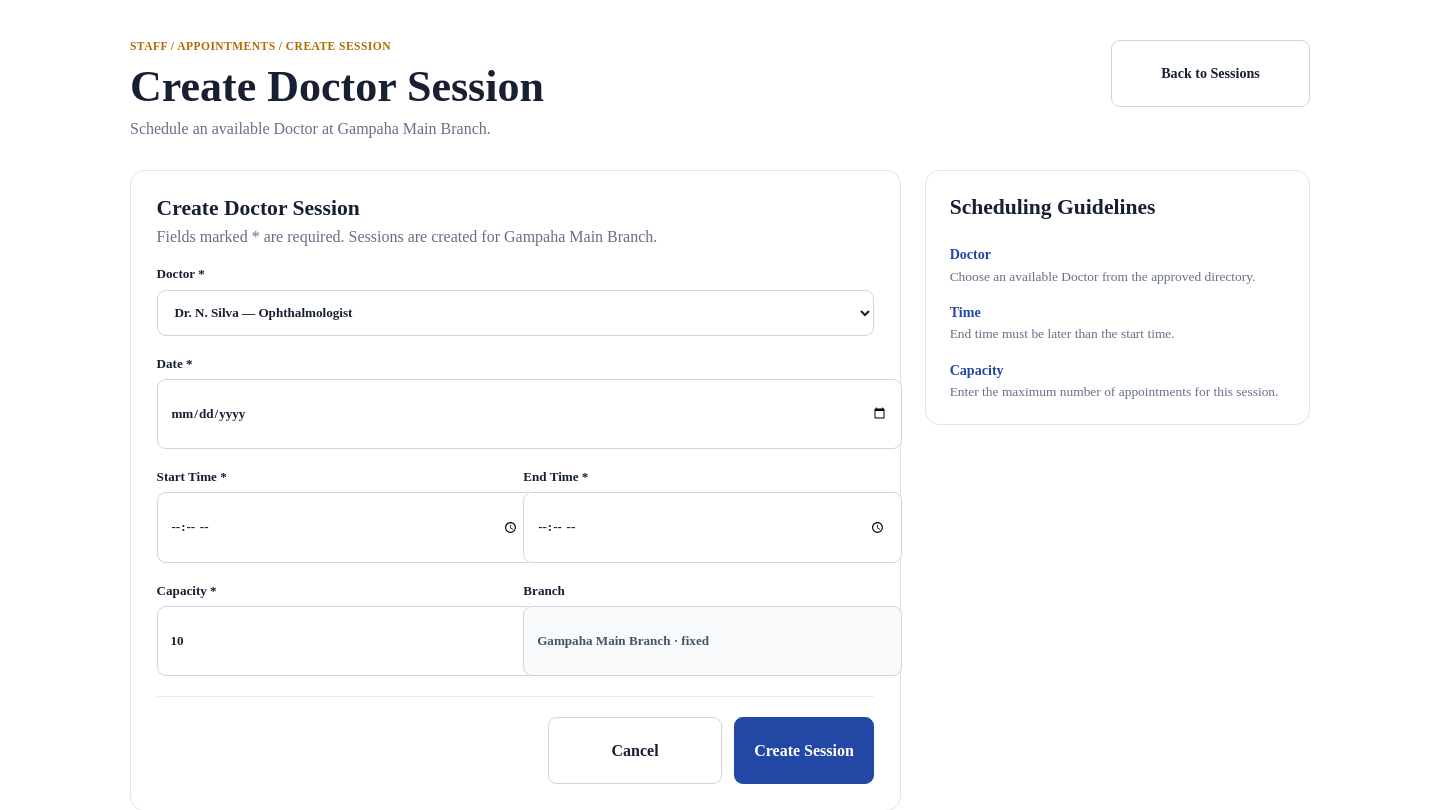
Test: StaffCreateDoctorSessionPage › shows unavailable Doctor errors safely
Step 1. Type "2026-10-20" into the date field labelled "Date *" → (529, 414), box [157,379,902,449]
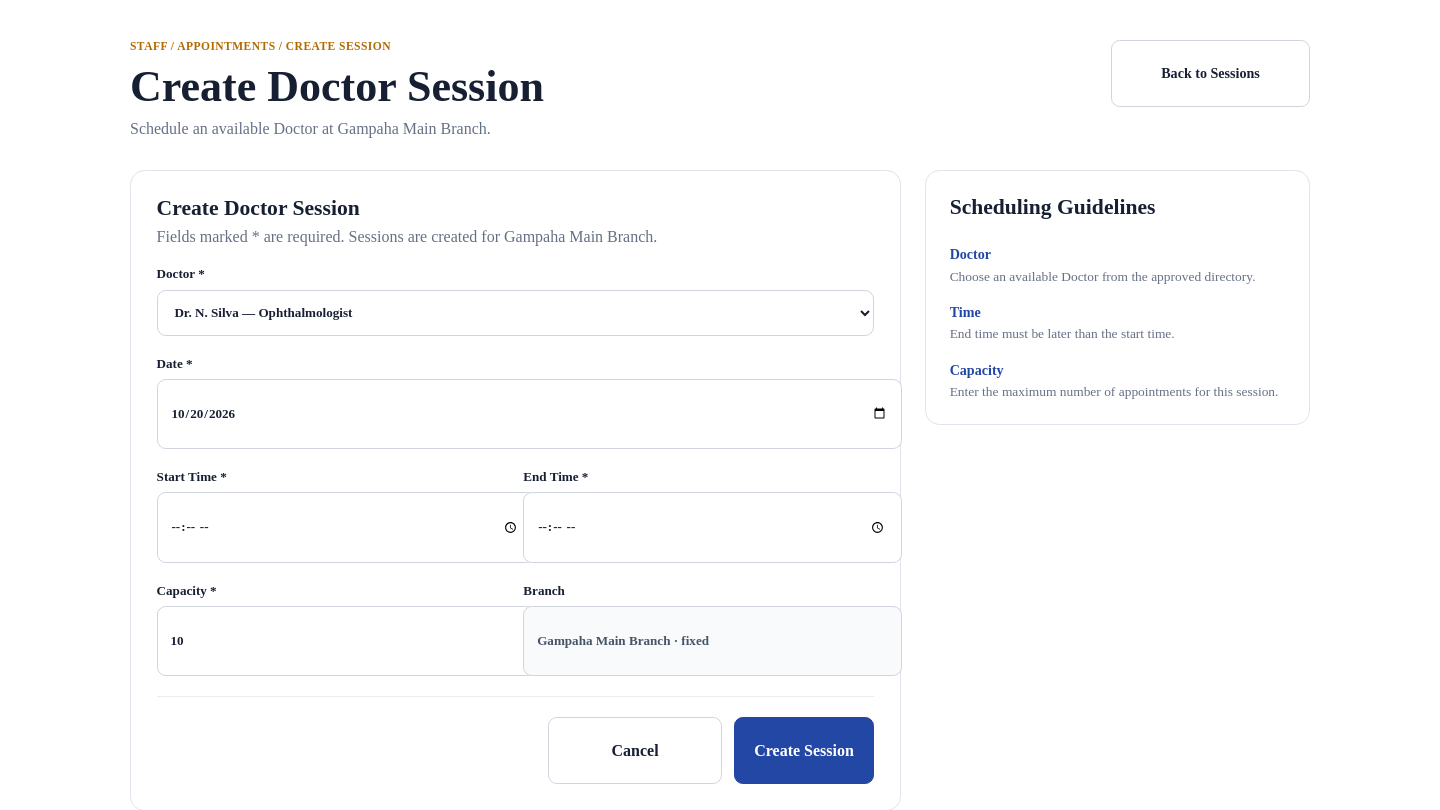
Step 2. Type "13:00" into the time field labelled "Start Time *" → (346, 528), box [157,492,535,563]
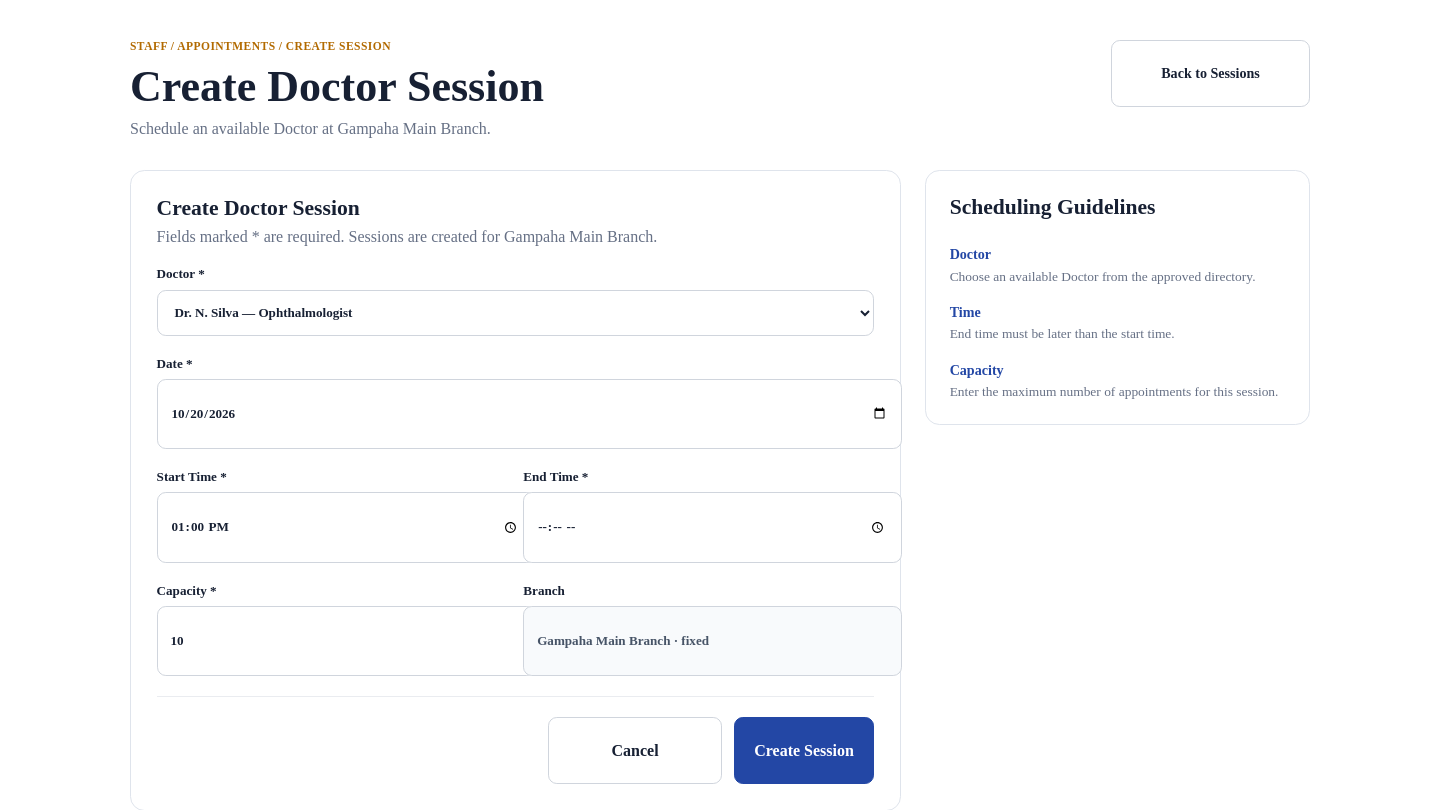
Step 3. Type "14:00" into the time field labelled "End Time *" → (712, 528), box [523,492,902,563]
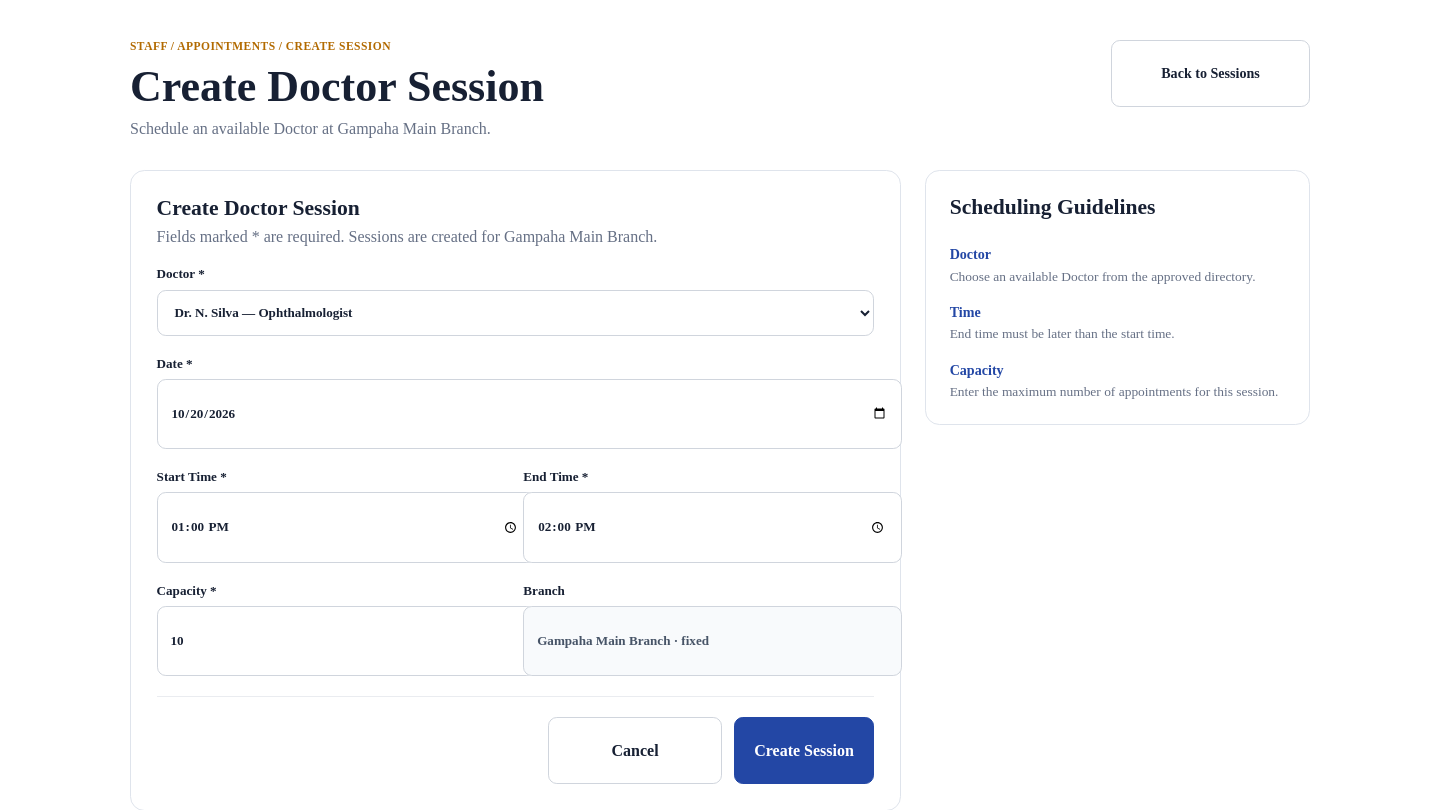
Step 4. Click the button "Create Session" → (804, 751), box [734,717,874,784]
(page scrolled)
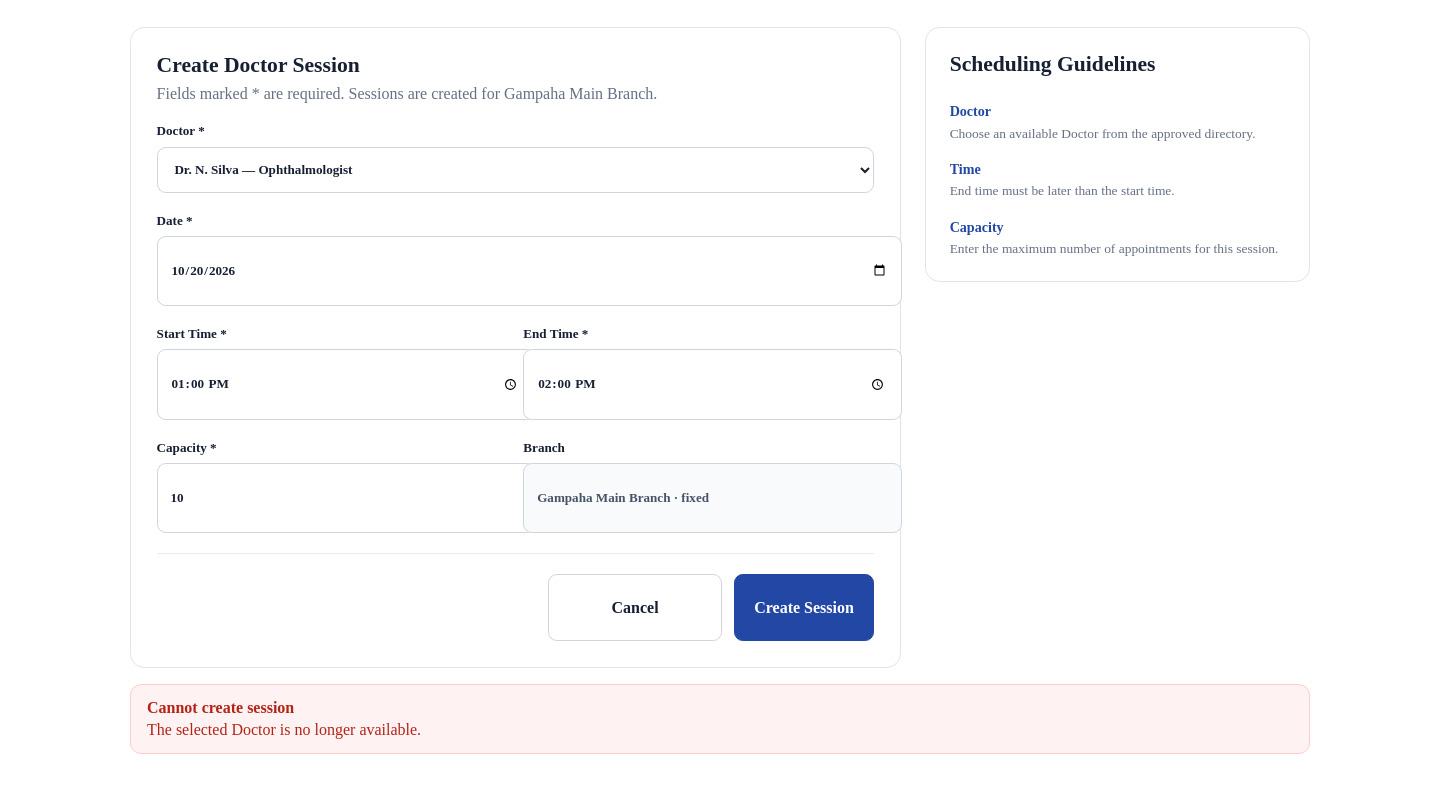
Now the message shows "selected Doctor is no longer available", box [147,721,421,738]
